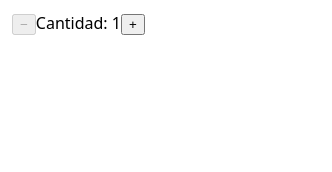
Scenario: SelectorCantidad › no pasa del maximo y lo avisa
Click the button "+" at (133, 24), box x1=121 y1=14 x2=145 y2=35
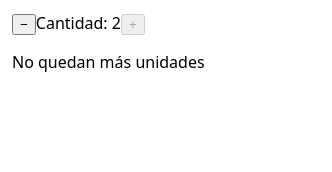
Expected: the text "Cantidad: 2" is shown, x1=36 y1=12 x2=121 y2=34
Expected: the button "+" is disabled, x1=121 y1=14 x2=145 y2=35
Expected: the text "No quedan más unidades" is shown, x1=12 y1=51 x2=205 y2=73
